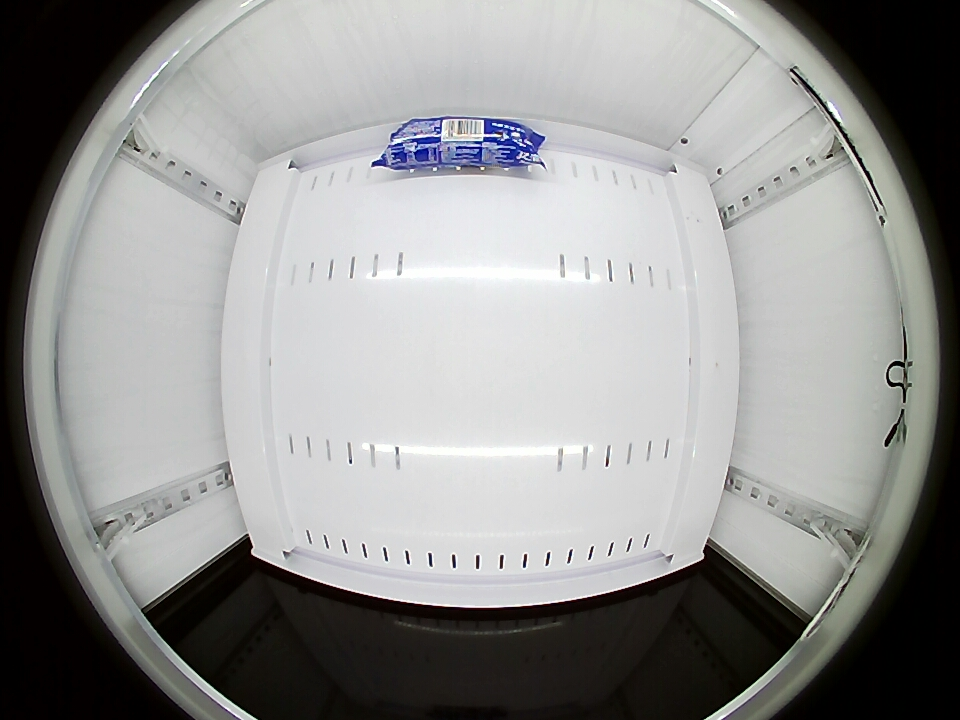aoliao: (376, 115, 544, 172)
